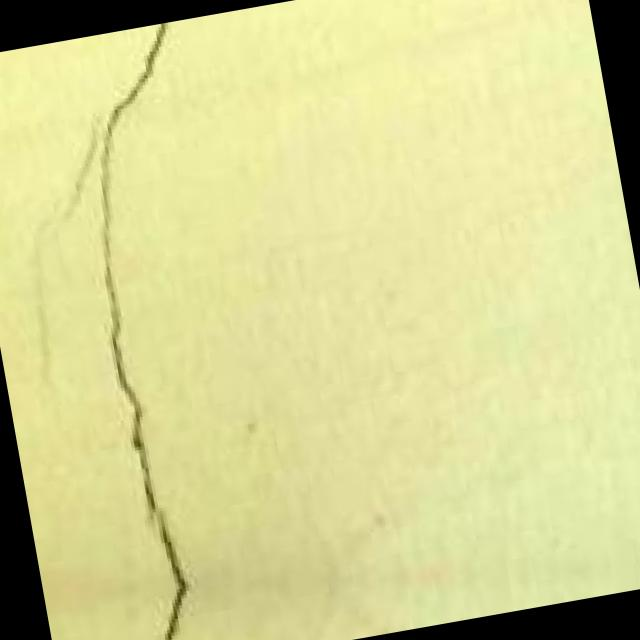crack: (0, 21, 283, 640)
